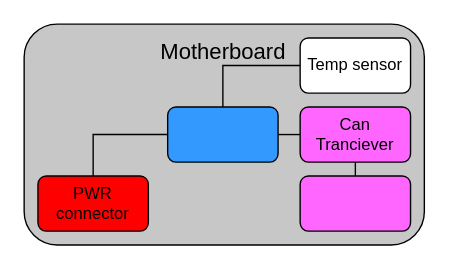
Some shapes in this 449 by 269 pixel diagram are drawn without their labels. The box of each missing label's shape, as (x1, y1, x2, y2) in pixels:
genuine can connector: (299, 175, 411, 231)
Nucleo: (166, 106, 278, 162)
